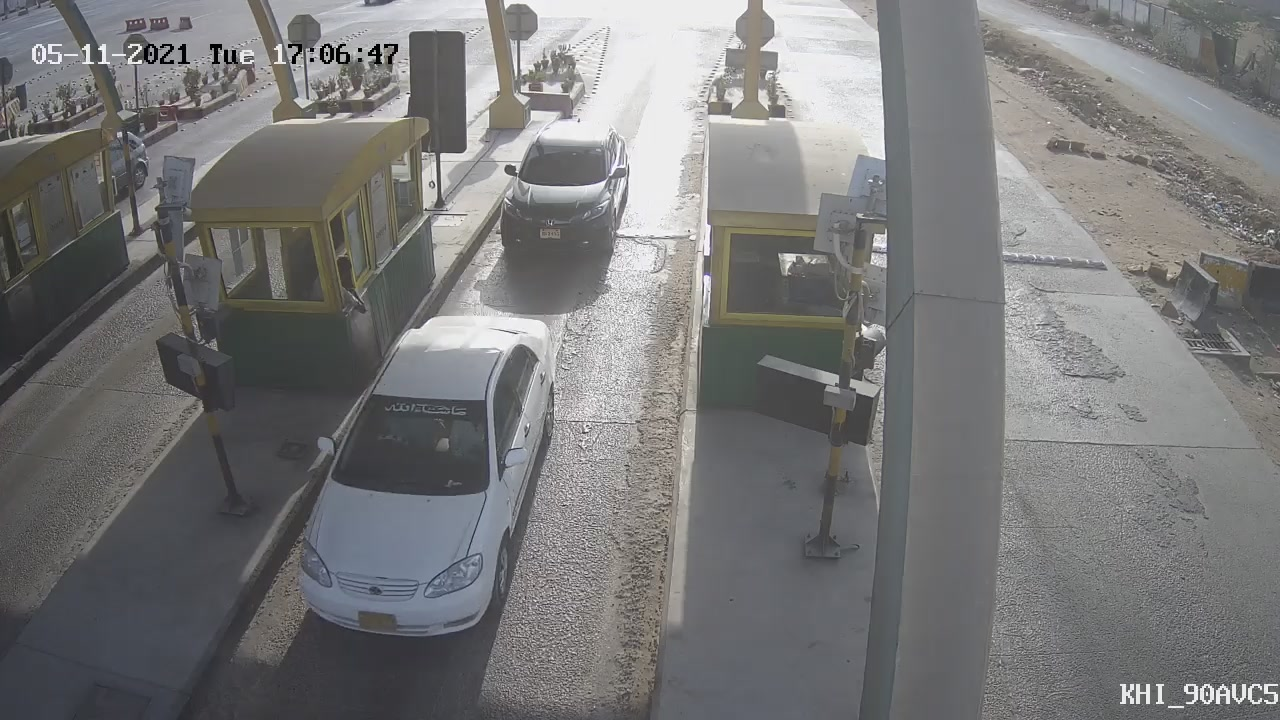F1: (473, 96, 656, 290)
